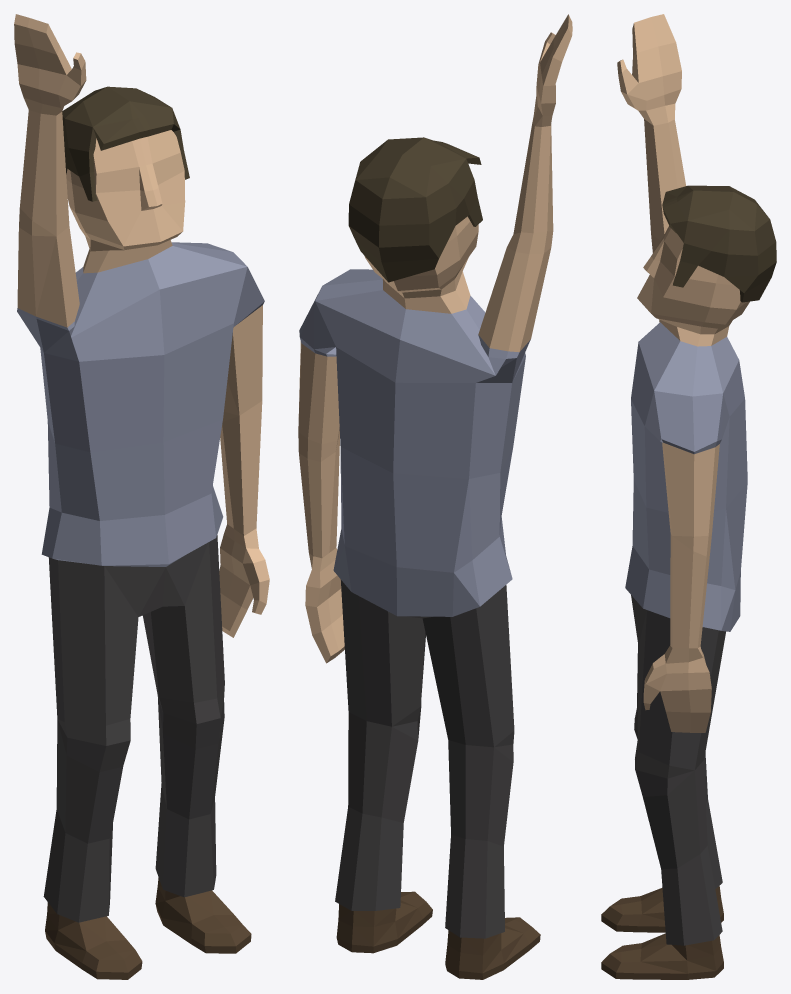
Rendered from Male_Crowd_RightArmUp.glb.
3 views of the same model, side by side, from view 1: azimuth 30°, elevation 25°; view 2: azimuth 150°, elevation 25°; view 3: azimuth 270°, elevation 25° (orthographic). The views are drawn at different scales.
Parts seen in each view (by area): view 1: Male_Crowd_RightArmUp; view 2: Male_Crowd_RightArmUp; view 3: Male_Crowd_RightArmUp.
Part boxes in pixels (x1,y1,x2,y2): Male_Crowd_RightArmUp: (14, 14, 269, 979); Male_Crowd_RightArmUp: (298, 14, 572, 979); Male_Crowd_RightArmUp: (601, 14, 776, 979).
Bounding box in the file's own units: 0.5857 × 2.07 × 0.3779.
